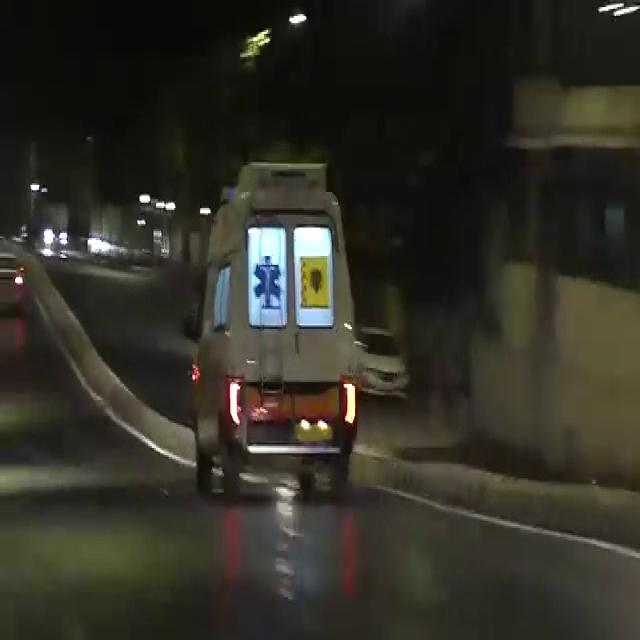ambulance: (197, 155, 373, 476)
